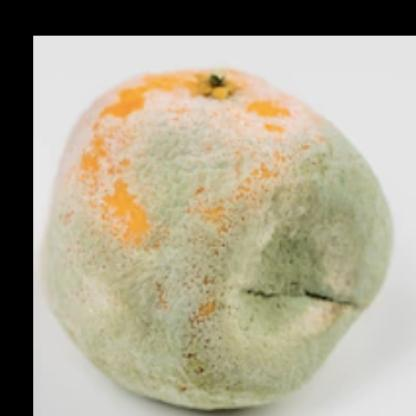rotten: (39, 70, 390, 414)
